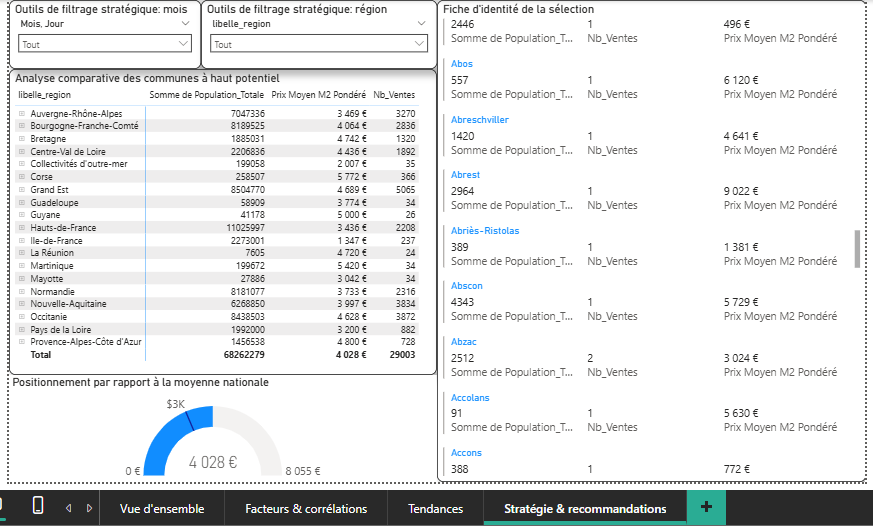

The page's visual inventory and layout, read from the dashboard file:
{"tool":"powerbi","page":{"name":"Stratégie & recommandations","canvas":[1280,720],"ordinal":3},"visuals":[{"type":"pivotTable","title":"Analyse comparative des communes à haut potentiel","fields":{"Rows":["Region.libelle_region","Commune.nom_commune"],"Values":["Sum(Commune.Population_Totale)","Ventes.Prix Moyen M2 Pondéré","Ventes.Nb_Ventes"]},"box":[0,103.1,639.3,457.1],"z":0},{"type":"slicer","title":"Outils de filtrage stratégique: mois","fields":{"Values":["Ventes.Date mutation.Variation.Hiérarchie de dates.Mois","Ventes.Date mutation.Variation.Hiérarchie de dates.Jour"]},"box":[0,0,286.8,103.1],"z":1},{"type":"slicer","title":"Outils de filtrage stratégique: région","fields":{"Values":["Region.libelle_region"]},"box":[286.8,0,352.5,103.1],"z":2},{"type":"multiRowCard","title":"Fiche d''identité de la sélection","fields":{"Values":["Commune.nom_commune","Sum(Commune.Population_Totale)","Ventes.Nb_Ventes","Ventes.Prix Moyen M2 Pondéré"]},"box":[639.3,0,640.8,720],"z":3},{"type":"gauge","title":"Positionnement par rapport à la moyenne nationale","fields":{"Y":["Ventes.Prix Moyen M2 Pondéré"],"TargetValue":["Bien.Prix m2 France Entière"]},"box":[0,560,639,160],"z":4}]}

Visuals, with their boxes in screenshot pixels (x1, y1, x2, y2):
"Analyse comparative des communes à haut potentiel" pivotTable: crop(5, 69, 435, 377)
"Outils de filtrage stratégique: mois" slicer: crop(5, 0, 197, 69)
"Outils de filtrage stratégique: région" slicer: crop(197, 0, 435, 69)
"Fiche d''identité de la sélection" multiRowCard: crop(435, 0, 866, 484)
"Positionnement par rapport à la moyenne nationale" gauge: crop(5, 377, 434, 484)
